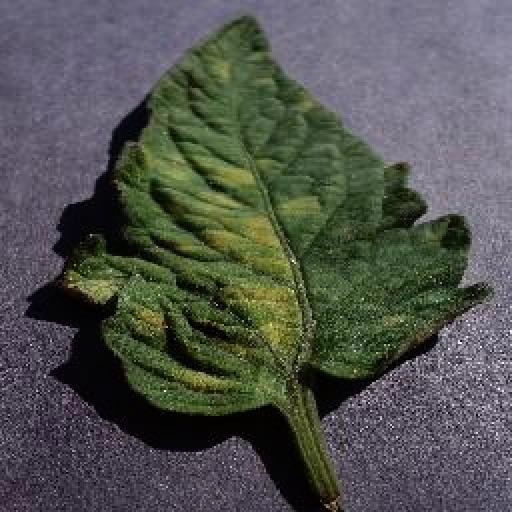disease_tomato: (62, 14, 492, 420)
